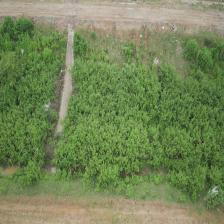vegetation: (56, 60, 160, 188), (0, 17, 63, 183), (158, 65, 220, 201)
